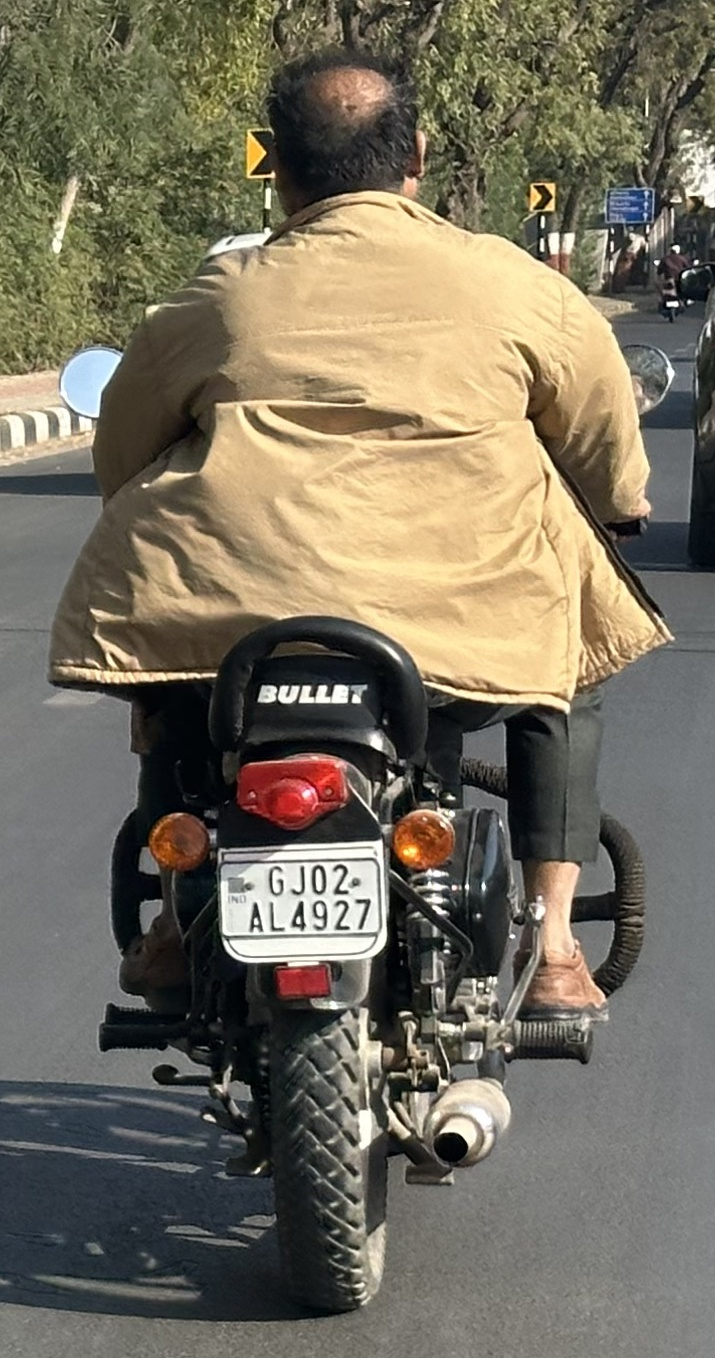BikeWithRider: (29, 29, 690, 1329)
NoHelmet: (236, 34, 452, 234)
